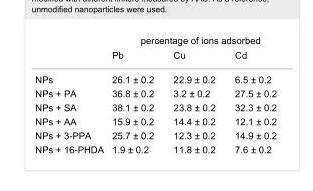table: (34, 34, 276, 154)
table column: (34, 34, 107, 154), (162, 34, 224, 154), (107, 34, 162, 154), (224, 34, 276, 154)
table column header: (34, 34, 276, 66)
table row: (34, 47, 276, 66), (34, 66, 276, 85), (34, 99, 276, 114), (34, 85, 276, 99), (34, 114, 276, 128), (34, 128, 276, 142), (34, 34, 276, 47), (34, 142, 276, 154)
table spanning cell: (107, 34, 276, 47)
